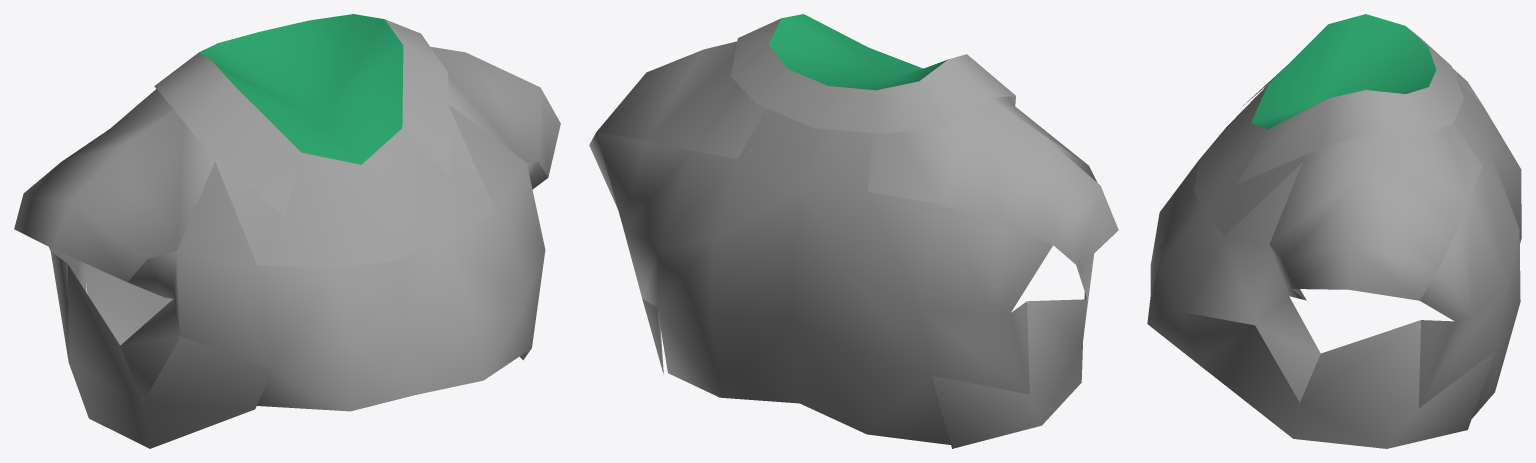
The model's file is spine2.glb.
The picture shows the model from 3 angles, left to right: view 1: azimuth 30°, elevation 25°; view 2: azimuth 150°, elevation 25°; view 3: azimuth 270°, elevation 25°; orthographic projection. The views are drawn at different scales.
Visible parts, largest first — view 1: polo-grey_SPINE2; view 2: polo-grey_SPINE2; view 3: polo-grey_SPINE2.
Boxes of the visible parts, x1,y1,x2,y2 form: polo-grey_SPINE2: (14,14,560,448); polo-grey_SPINE2: (589,14,1118,448); polo-grey_SPINE2: (1147,14,1521,448).
Bounding box in the file's own units: 0.4737 × 0.3067 × 0.333.
Materials: 1 (1 with a texture image).
